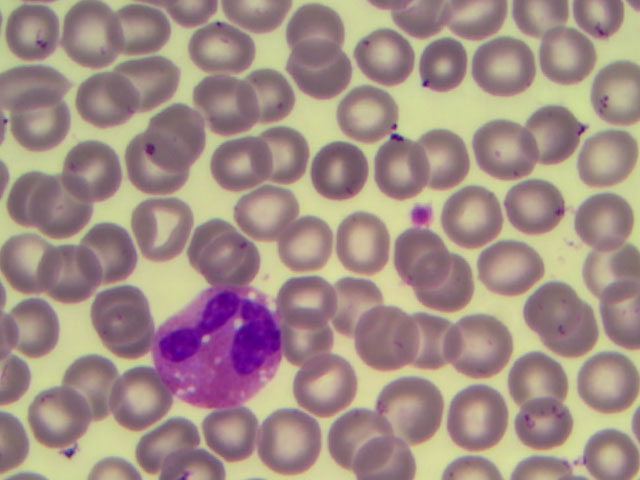Platelets: (404, 204, 438, 228)
RBC: (75, 70, 139, 133), (119, 45, 183, 108), (6, 5, 70, 68), (3, 51, 67, 114), (6, 88, 70, 151), (62, 133, 126, 196), (40, 171, 104, 234), (10, 165, 74, 228), (33, 245, 97, 308), (85, 220, 149, 283), (128, 200, 192, 263), (122, 141, 186, 204), (144, 106, 208, 169), (187, 73, 251, 136), (242, 62, 306, 125), (187, 15, 251, 78), (285, 2, 349, 65), (288, 38, 352, 101), (356, 22, 420, 85), (342, 82, 406, 145), (313, 135, 377, 198), (253, 121, 317, 184), (210, 135, 274, 198), (230, 181, 294, 244), (186, 212, 250, 275), (199, 233, 263, 296), (91, 287, 155, 350), (61, 351, 125, 414), (24, 390, 88, 453), (94, 366, 158, 429), (125, 414, 189, 477), (201, 411, 265, 474), (246, 403, 310, 466), (308, 357, 372, 420), (270, 314, 334, 377), (275, 265, 339, 328), (278, 211, 342, 274), (336, 207, 400, 270), (325, 262, 389, 325), (361, 314, 425, 377), (399, 309, 463, 372), (441, 314, 505, 377), (421, 258, 485, 321), (381, 223, 445, 286), (439, 185, 503, 248), (403, 121, 467, 184), (350, 129, 414, 192), (477, 116, 541, 179), (478, 38, 542, 101), (403, 28, 467, 91), (524, 21, 588, 84), (576, 58, 640, 121), (576, 132, 640, 195), (527, 105, 591, 168), (499, 174, 563, 237), (576, 194, 640, 257), (576, 245, 640, 308), (576, 286, 640, 349), (547, 291, 611, 354), (511, 276, 575, 339), (480, 236, 544, 299), (508, 342, 572, 405), (525, 387, 589, 450), (576, 353, 640, 416), (451, 389, 515, 452), (389, 377, 453, 440), (340, 405, 404, 468), (348, 417, 412, 480), (1, 230, 64, 293), (111, 1, 175, 63), (50, 1, 114, 63)
WBC: (155, 286, 282, 410)
